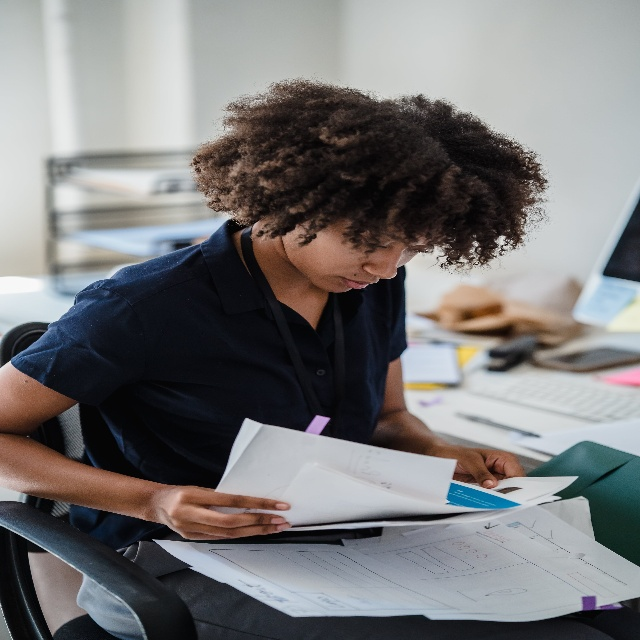Sin_guantes: (152, 484, 295, 543), (442, 441, 528, 489)
